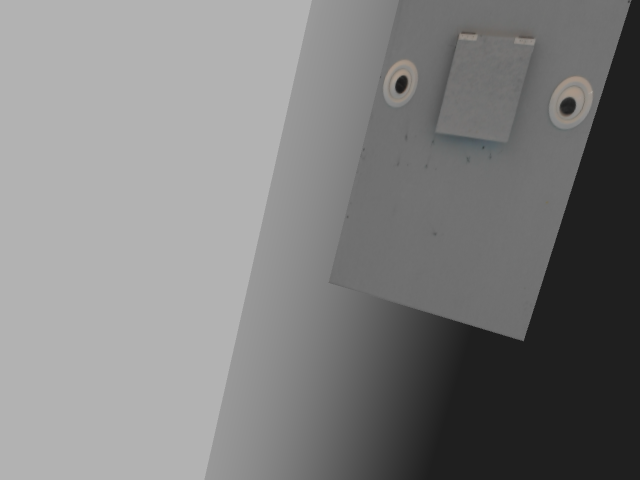facade: (382, 30, 595, 145)
